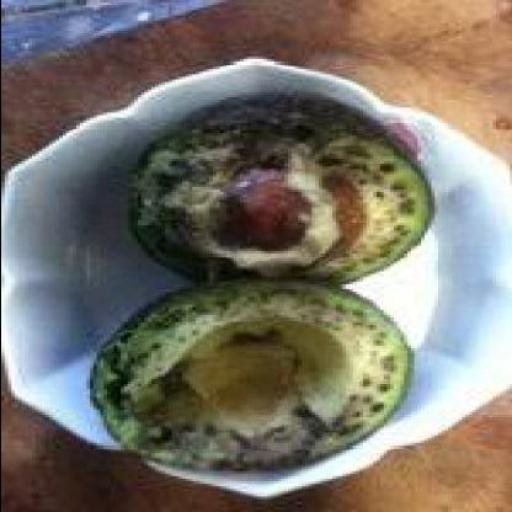biodegradable: (86, 274, 406, 473), (120, 87, 434, 282), (202, 162, 304, 245)
